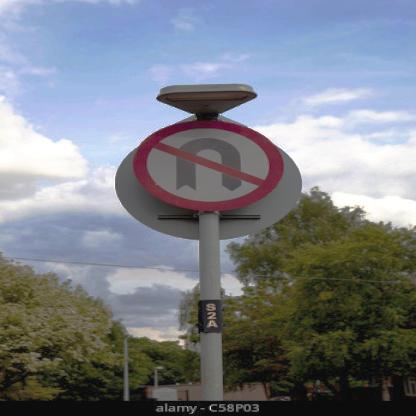No U-turn: (135, 115, 282, 206)
